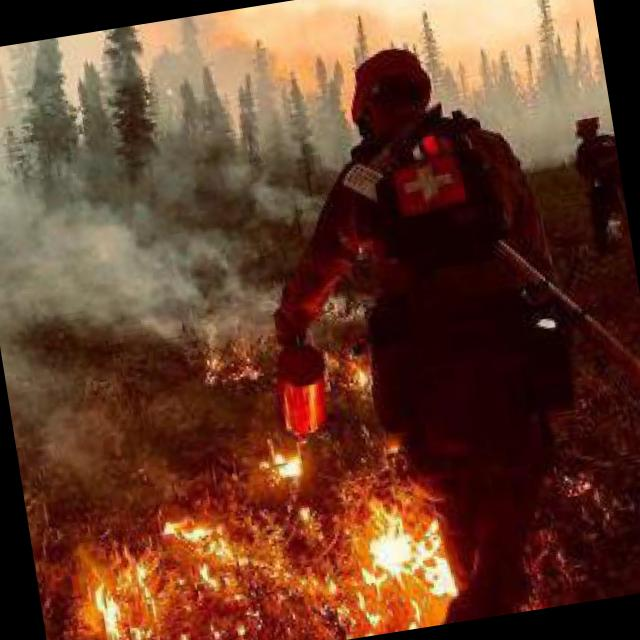fire: (321, 485, 468, 640), (156, 501, 240, 596), (89, 564, 159, 640), (200, 346, 262, 394), (342, 352, 374, 394), (266, 446, 304, 477)
smoke: (0, 59, 283, 367)
